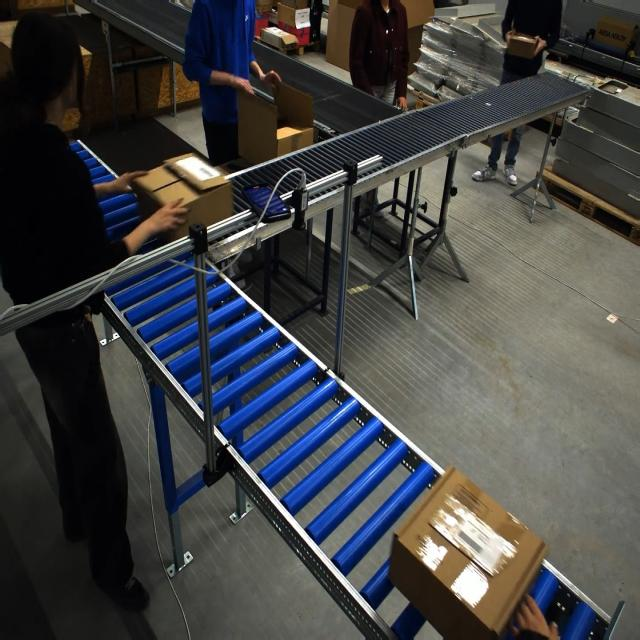box: (387, 462, 544, 634), (132, 153, 232, 241), (237, 75, 314, 165), (506, 31, 539, 60)
